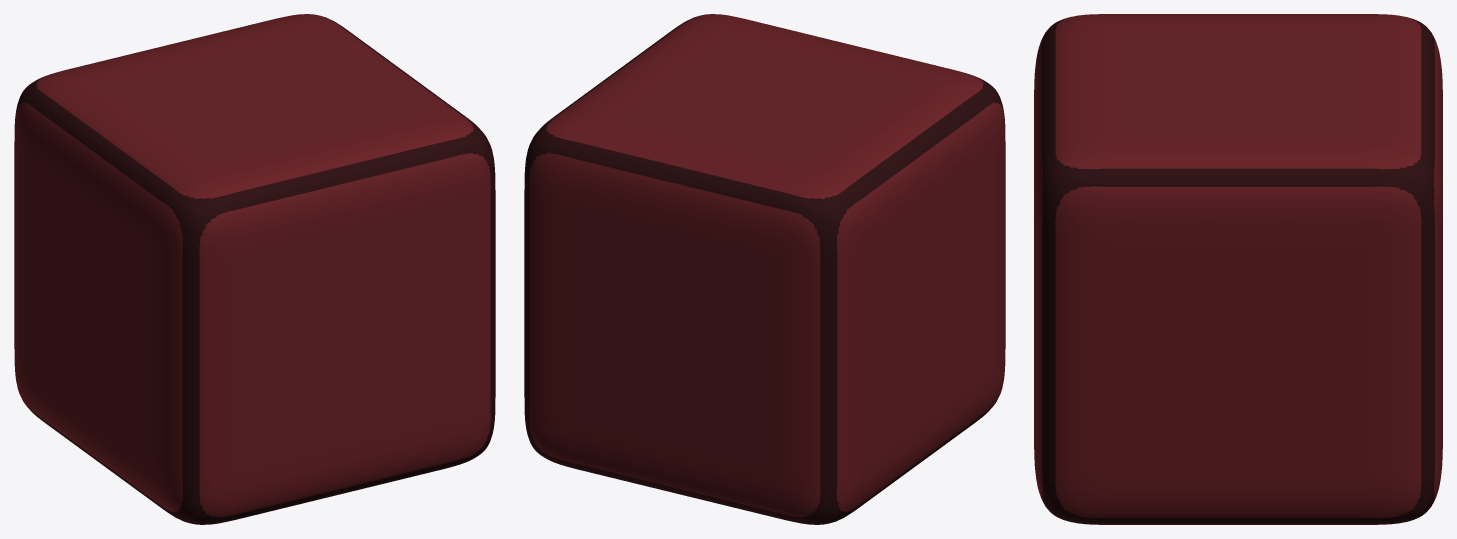
The model's file is dice_plain.fbx.
3 views of the same model, side by side, from view 1: azimuth 30°, elevation 25°; view 2: azimuth 150°, elevation 25°; view 3: azimuth 270°, elevation 25° (orthographic). The views are drawn at different scales.
Parts seen in each view (by area): view 1: Cube.002; view 2: Cube.002; view 3: Cube.002.
Part boxes in pixels (box(x1,y1,x2,y2)): Cube.002: box(14, 14, 495, 524); Cube.002: box(524, 14, 1005, 524); Cube.002: box(1034, 14, 1442, 524).
Size of the model in its own units: 200 by 200 by 200.
